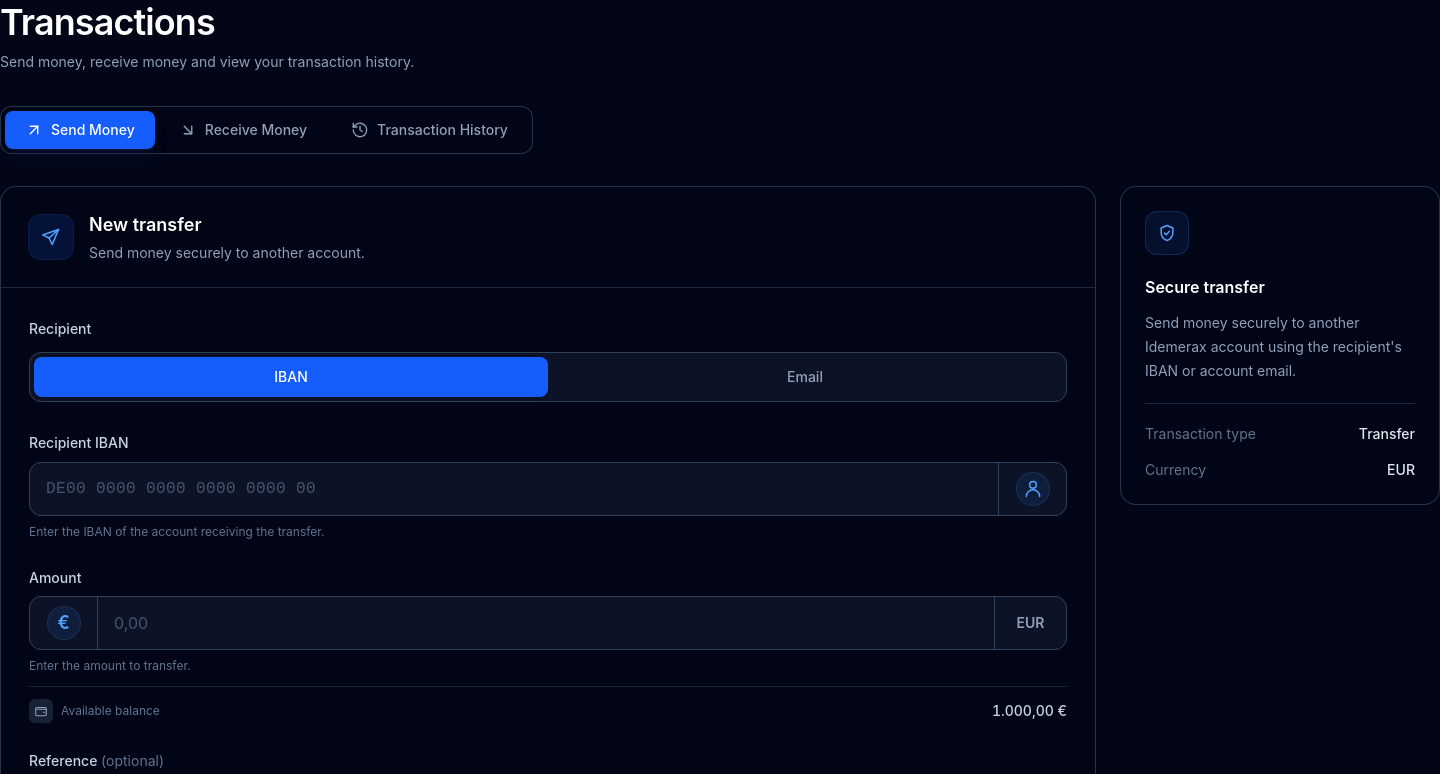
Test: TransactionsPage › keeps the pending attempt when the status says COMPLETED without a transaction payload
The image size is (1440, 774).
Expected: the text "1.000,00 €" is shown, [992,701,1067,721]
Type "DE89370400440532013000" into the field labelled "Recipient IBAN" at (514, 489), box [30,463,998,515]
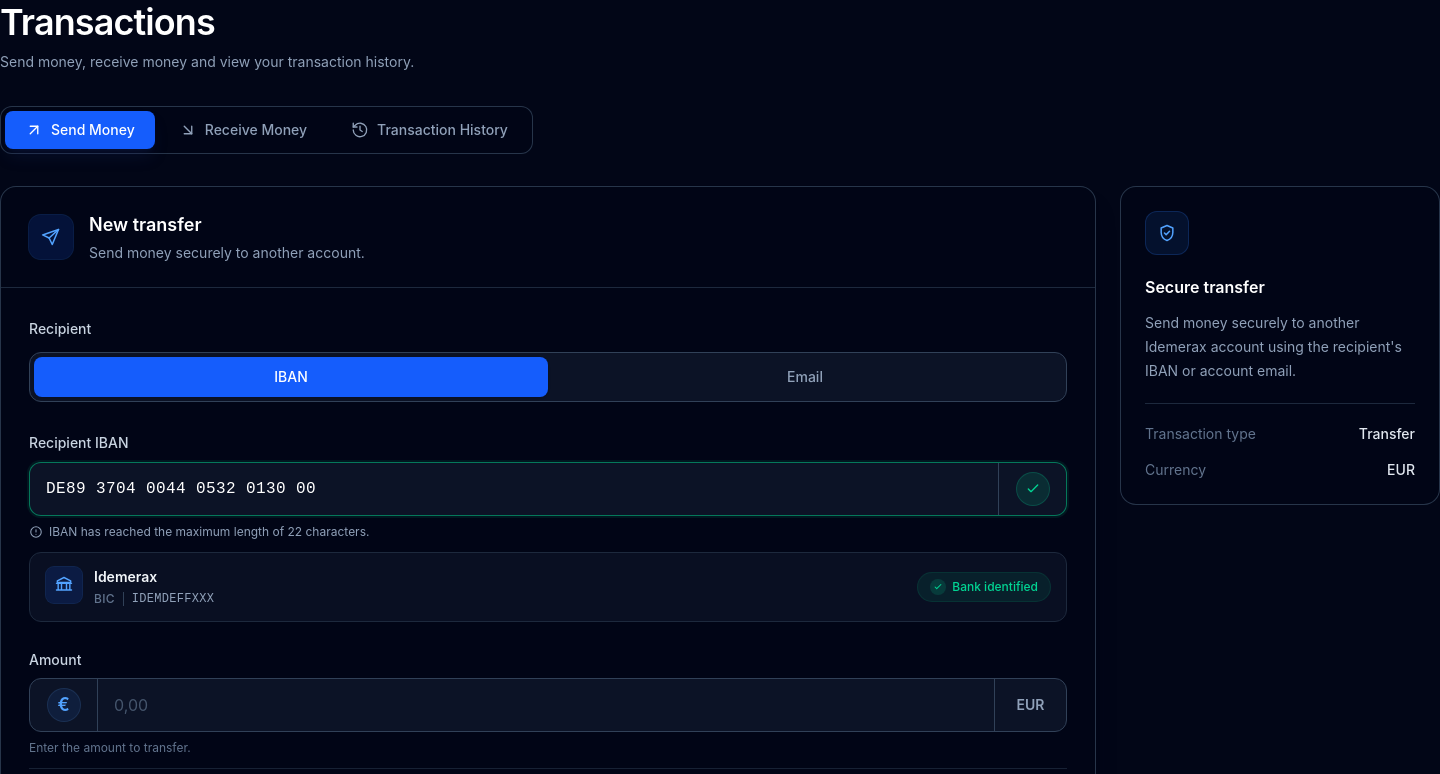
Type "250" into the field labelled "Amount" at (546, 705), box [98,679,994,731]
(page scrolled)
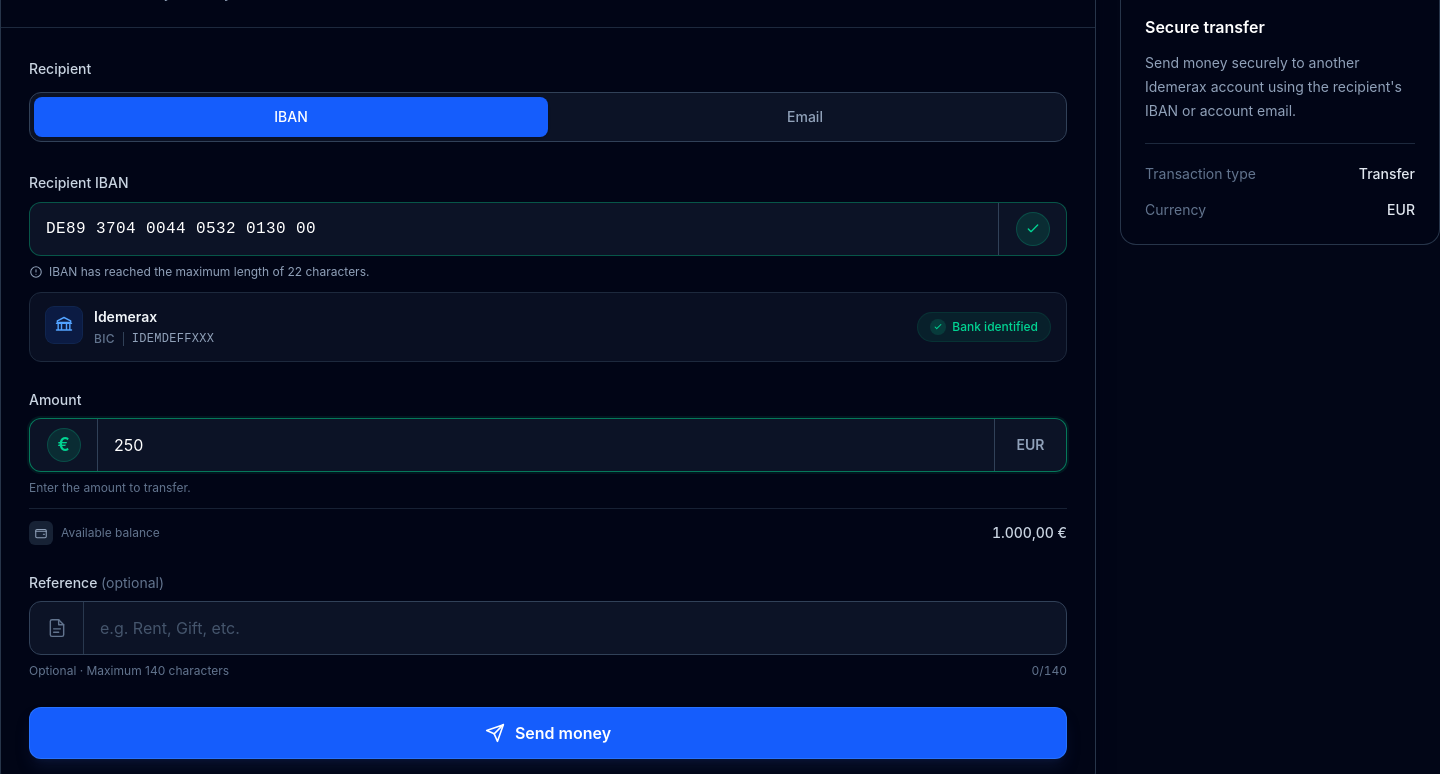
Click the button "Send money" at (548, 733), box [29,707,1067,759]
(page scrolled)
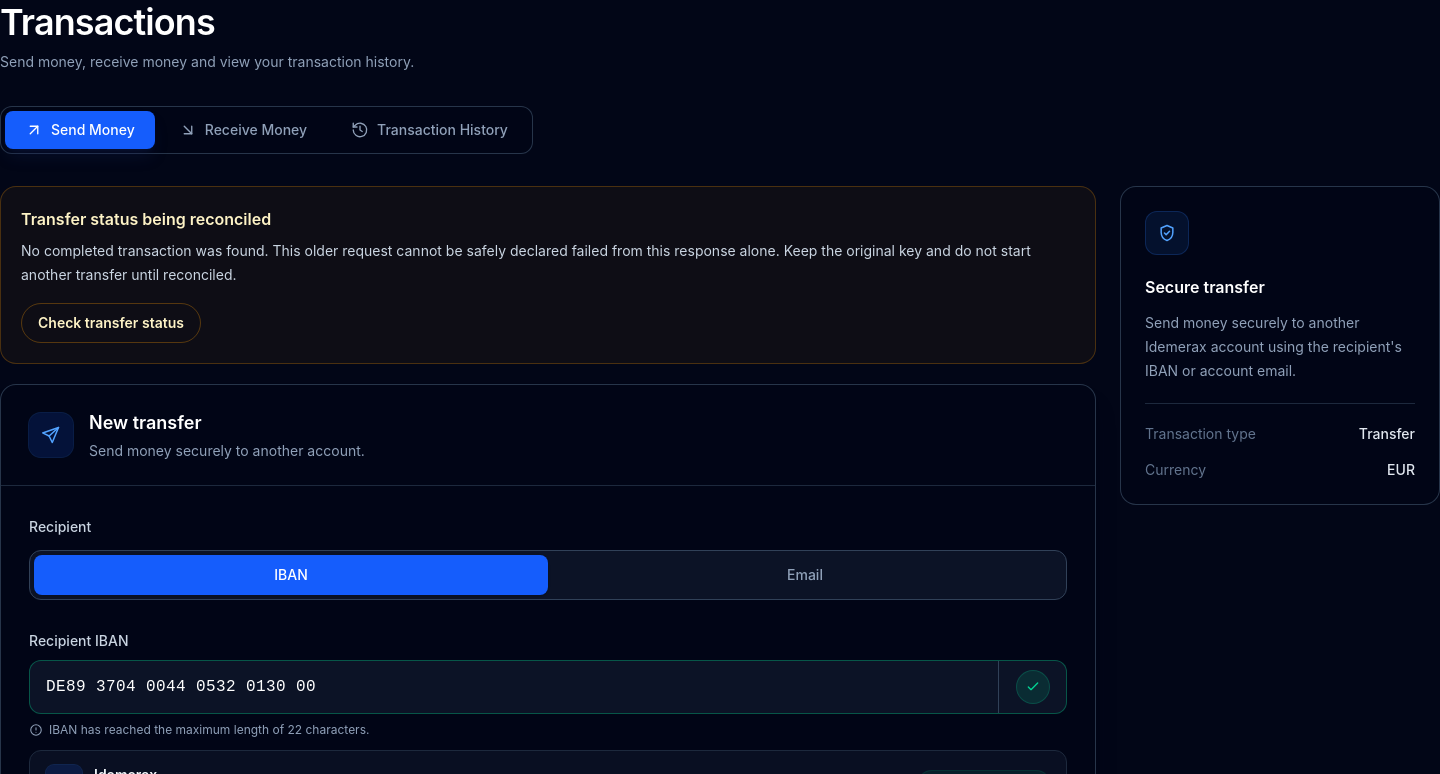
Expected: the text "No completed transaction was found" is shown, [21,242,1031,283]
